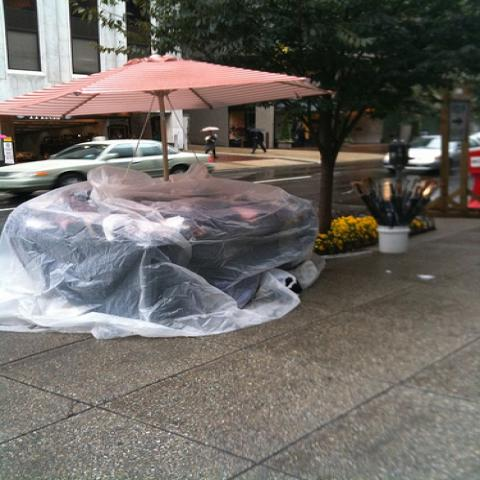car: (0, 136, 216, 189), (379, 135, 464, 173)
